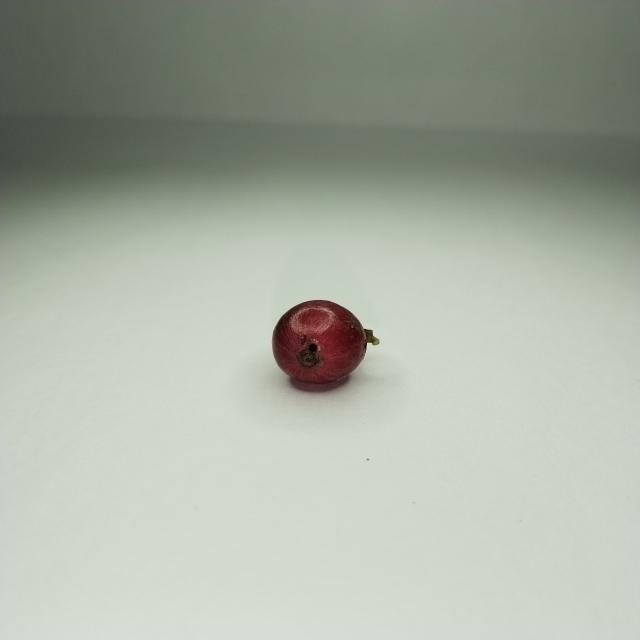Infectado: (273, 302, 367, 382)
